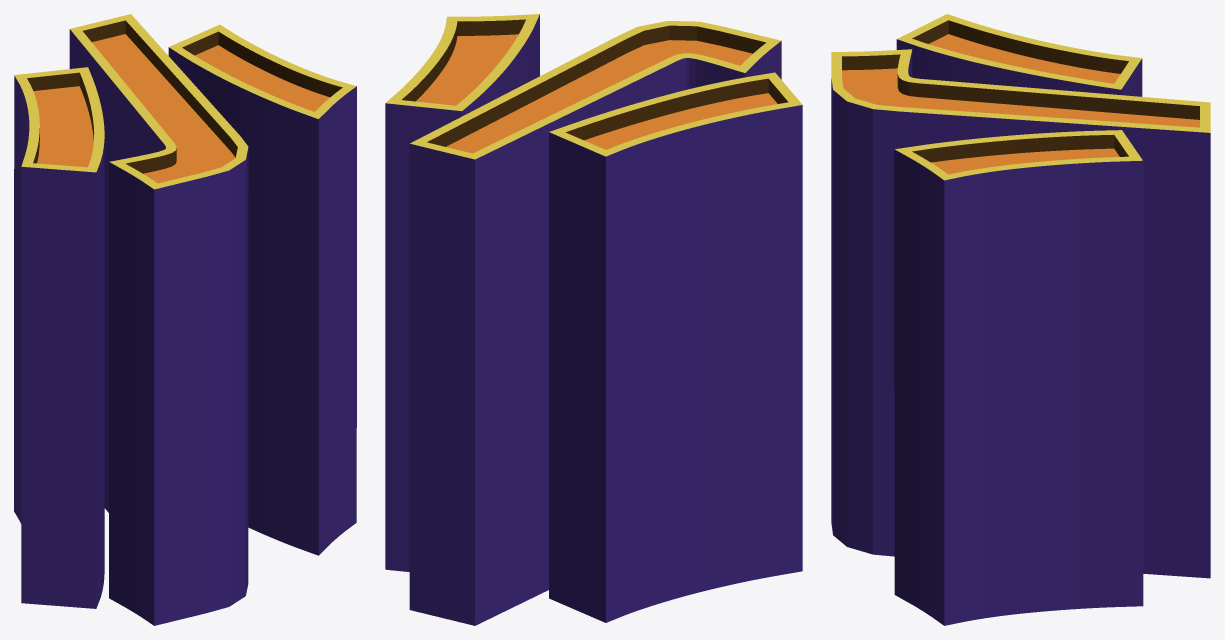
File: chii.glb
3 views of the same model, side by side, from view 1: azimuth 30°, elevation 25°; view 2: azimuth 150°, elevation 25°; view 3: azimuth 270°, elevation 25° (orthographic). The views are drawn at different scales.
Visible parts, largest first — view 1: chii; view 2: chii; view 3: chii.
Part boxes in pixels (<box>): chii: <box>14,14,356,625</box>; chii: <box>385,14,802,625</box>; chii: <box>831,14,1210,625</box>.
Size of the model in its own units: 0.2403 by 0.2998 by 0.2312.
